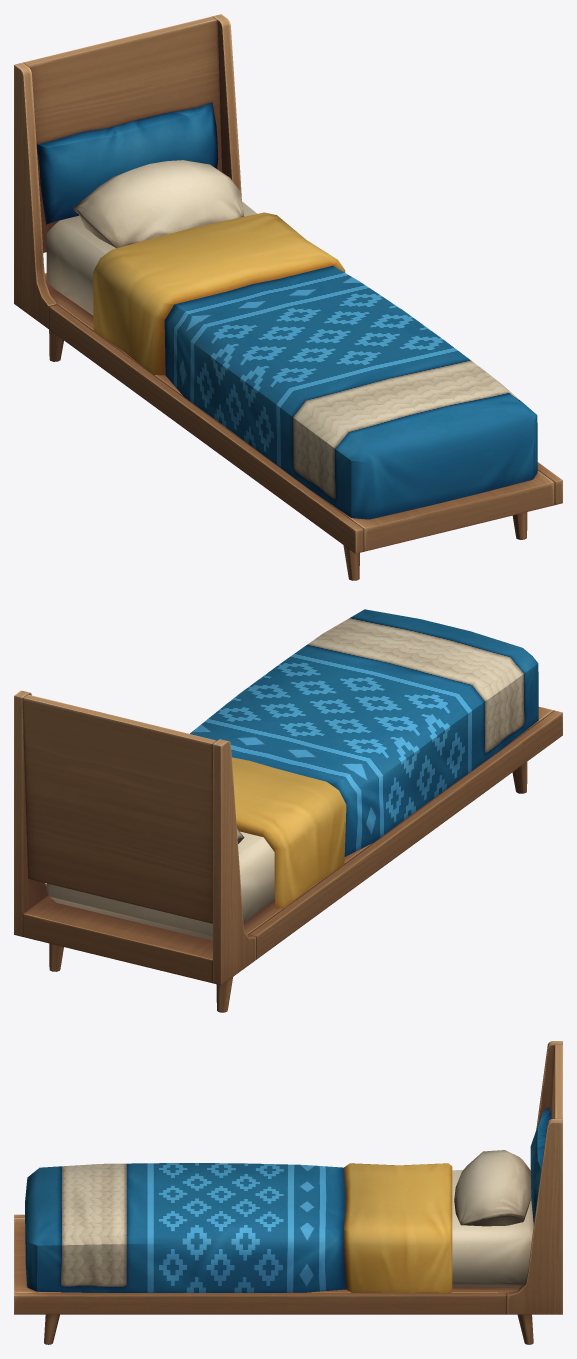
Rendered from home_bed.glb.
3 views of the same model, one above another, from view 1: azimuth 30°, elevation 25°; view 2: azimuth 150°, elevation 25°; view 3: azimuth 270°, elevation 25° (orthographic). The views are drawn at different scales.
Visible parts, largest first — view 1: TinyLiving_Space-SavingSingle; view 2: TinyLiving_Space-SavingSingle; view 3: TinyLiving_Space-SavingSingle.
Part boxes in pixels (box(x1,y1,x2,y2)): TinyLiving_Space-SavingSingle: box(14, 14, 562, 580); TinyLiving_Space-SavingSingle: box(14, 609, 562, 1012); TinyLiving_Space-SavingSingle: box(14, 1041, 562, 1344).
Size of the model in its own units: 0.85 by 1.11 by 2.43.
1 material, 1 textured.
